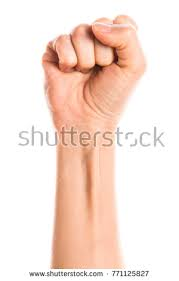fist: (49, 21, 147, 124)
